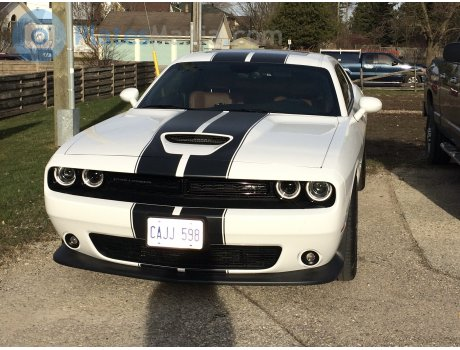licence: (145, 216, 204, 249)
